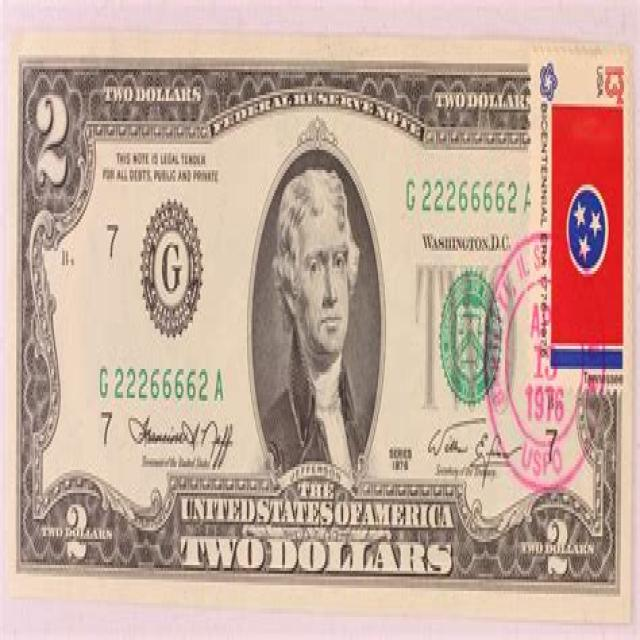Two: (9, 34, 628, 623)
